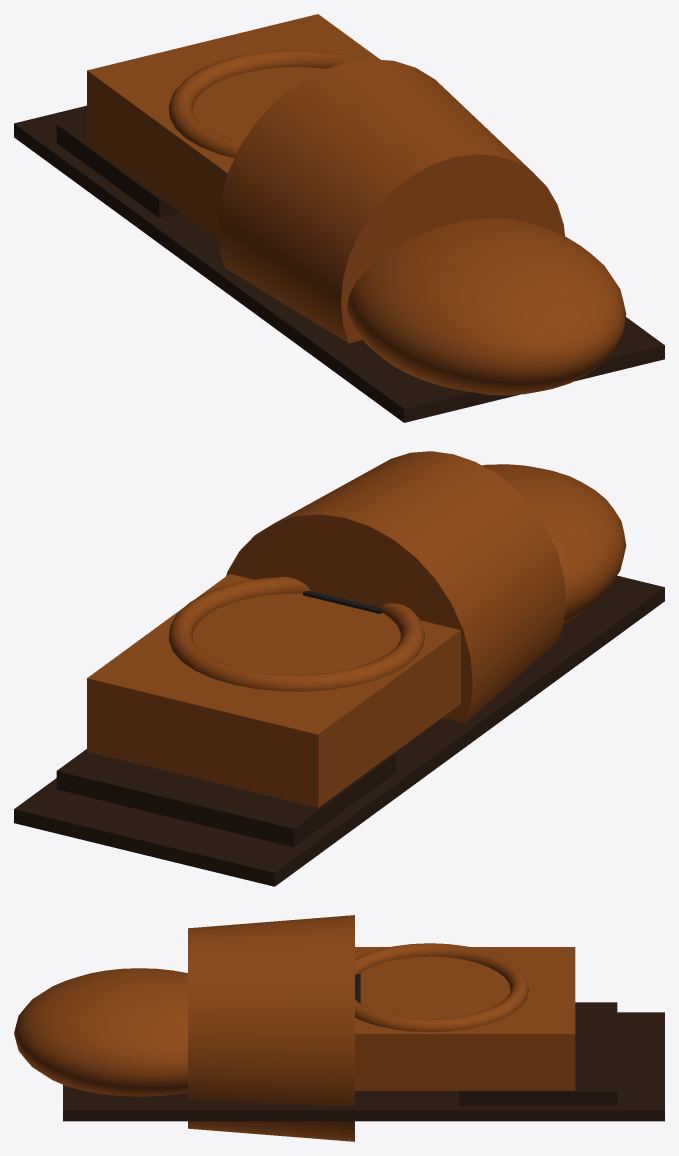
File: formal.glb
3 views of the same model, one above another, from view 1: azimuth 30°, elevation 25°; view 2: azimuth 150°, elevation 25°; view 3: azimuth 270°, elevation 25° (orthographic). The views are drawn at different scales.
Visible parts, largest first — view 1: Upper_Vamp, Upper_ToeCap, Upper_QuartersHeel, Outsole_LeatherWelt, Upper_AnkleCollar, Outsole_StackedHeel; view 2: Upper_QuartersHeel, Upper_Vamp, Outsole_LeatherWelt, Outsole_StackedHeel, Upper_ToeCap, Upper_AnkleCollar; view 3: Upper_Vamp, Upper_QuartersHeel, Upper_ToeCap, Outsole_LeatherWelt, Outsole_StackedHeel, Upper_AnkleCollar.
Part boxes in pixels (x1,y1,x2,y2): Upper_Vamp: [218, 59, 564, 343]; Upper_ToeCap: [347, 218, 626, 395]; Upper_QuartersHeel: [87, 14, 380, 240]; Outsole_LeatherWelt: [14, 105, 664, 422]; Upper_AnkleCollar: [168, 50, 366, 158]; Outsole_StackedHeel: [56, 117, 180, 217]; Upper_QuartersHeel: [87, 574, 460, 807]; Upper_Vamp: [226, 451, 565, 723]; Outsole_LeatherWelt: [14, 575, 664, 886]; Outsole_StackedHeel: [56, 749, 396, 847]; Upper_ToeCap: [482, 464, 626, 623]; Upper_AnkleCollar: [168, 576, 424, 691]; Upper_Vamp: [188, 915, 354, 1141]; Upper_QuartersHeel: [355, 947, 575, 1090]; Upper_ToeCap: [14, 968, 187, 1096]; Outsole_LeatherWelt: [63, 1012, 664, 1121]; Outsole_StackedHeel: [459, 1002, 617, 1105]; Upper_AnkleCollar: [355, 943, 528, 1032].
Size of the model in its own units: 0.88 by 0.86 by 2.47.
